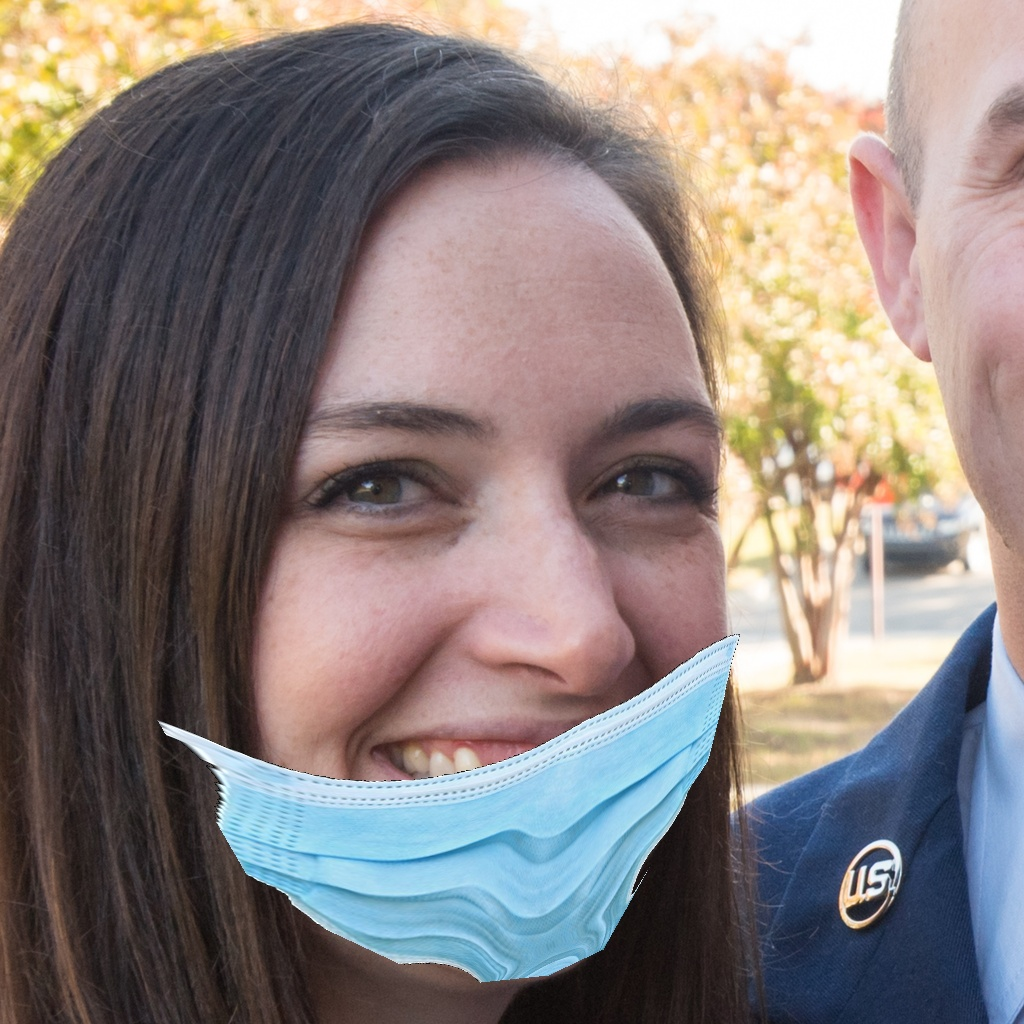mask_weared_incorrect: (144, 371, 768, 1001)
